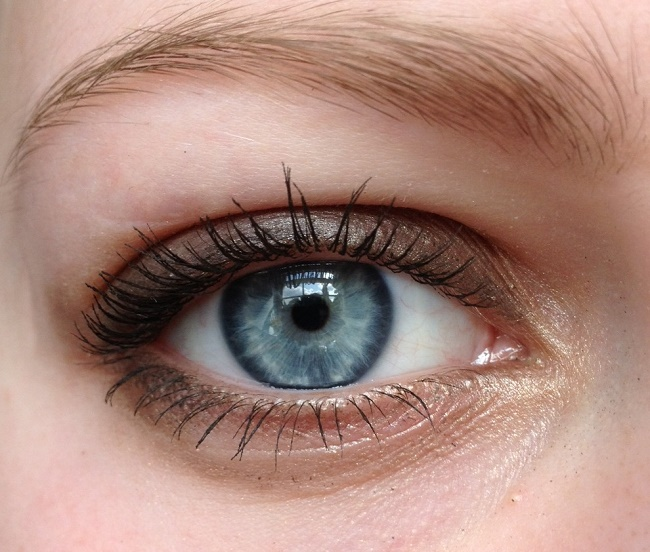iris: (217, 250, 392, 391)
pupil: (286, 294, 330, 333)
